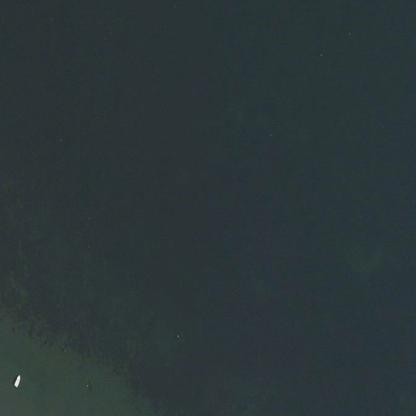ship: (6, 366, 29, 392)
